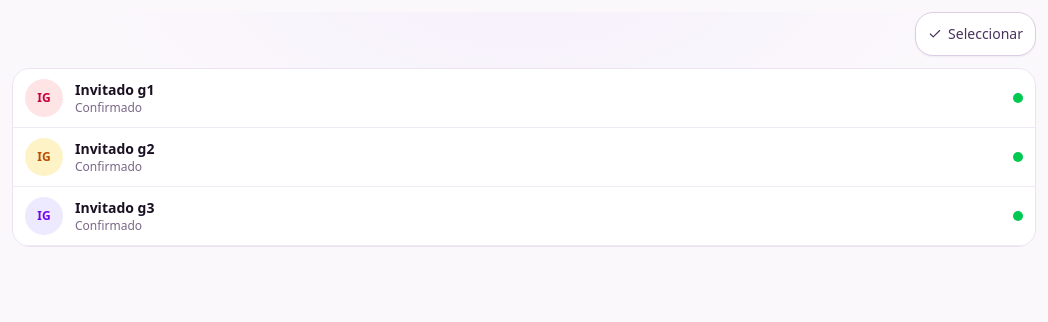
Test: GuestList — modo selección › activa el modo selección al presionar "Seleccionar"
Click the button "Seleccionar": (976, 34) [915,12,1036,56]
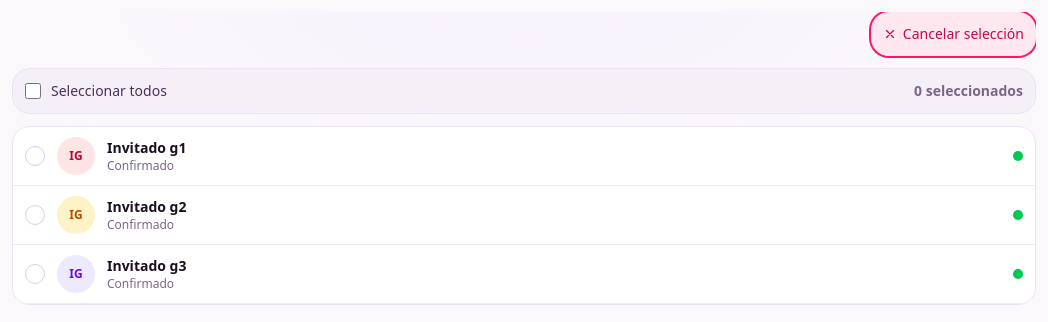
Expected: the button "Cancelar selección" is shown, [871,12,1036,56]
Expected: the checkbox named "Seleccionar todos los invitados" is shown, [25,83,41,99]
Expected: the text "0 seleccionados" is shown, [914,81,1023,101]
